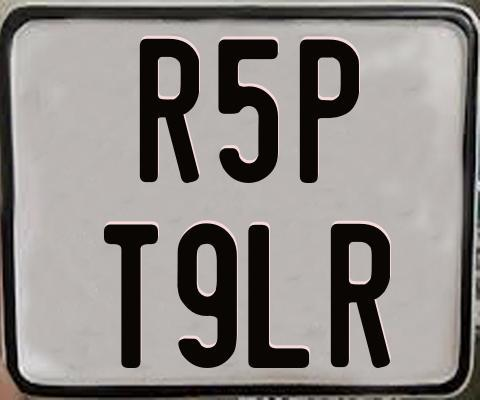5: (218, 36, 279, 183)
9: (174, 222, 236, 372)
L: (245, 222, 307, 371)
P: (298, 37, 358, 181)
R: (138, 39, 202, 189), (329, 224, 389, 374)
T: (101, 221, 158, 367)
